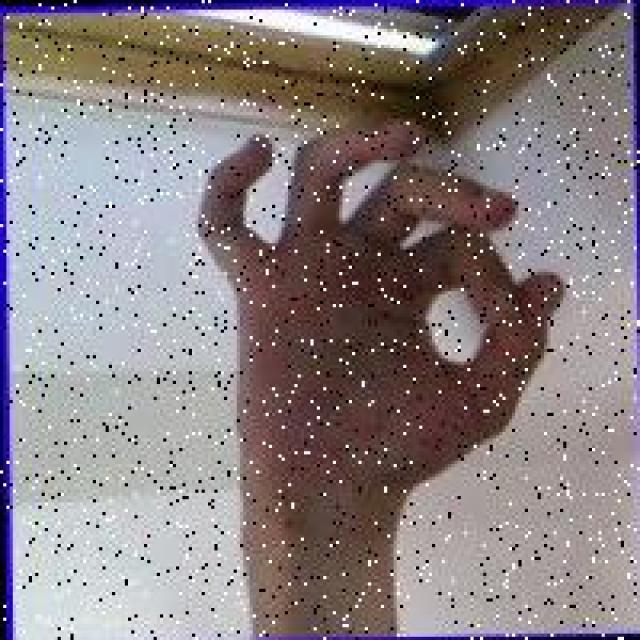F: (184, 112, 571, 493)
